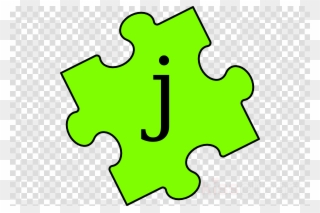puzzle piece: (53, 3, 277, 197)
